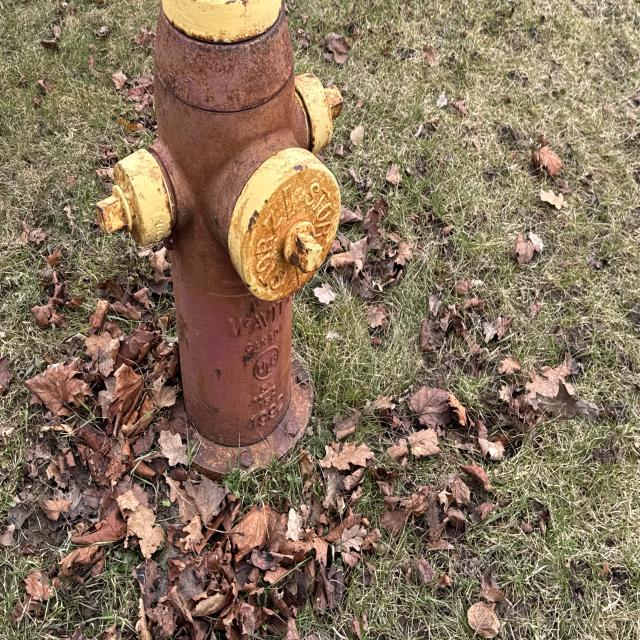Fire hydrant: (92, 0, 345, 490)
